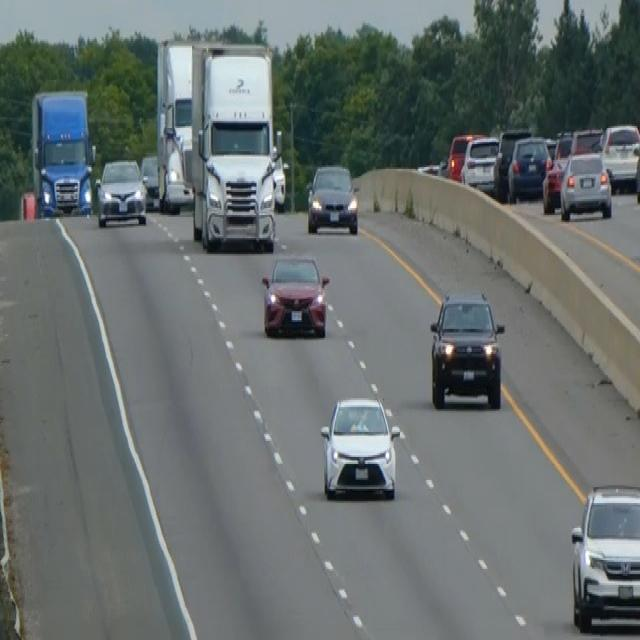car: (570, 482, 639, 631), (319, 393, 400, 499), (260, 252, 330, 338), (94, 156, 147, 228), (306, 162, 359, 234), (559, 150, 612, 220), (507, 133, 551, 203), (598, 121, 639, 192), (493, 126, 531, 198), (541, 134, 572, 212), (460, 133, 499, 192), (445, 130, 477, 181), (139, 153, 160, 208), (569, 126, 603, 155), (634, 128, 639, 204)
jeep: (428, 288, 506, 411)
lorry: (189, 42, 277, 252), (29, 85, 96, 219), (154, 35, 197, 214)
